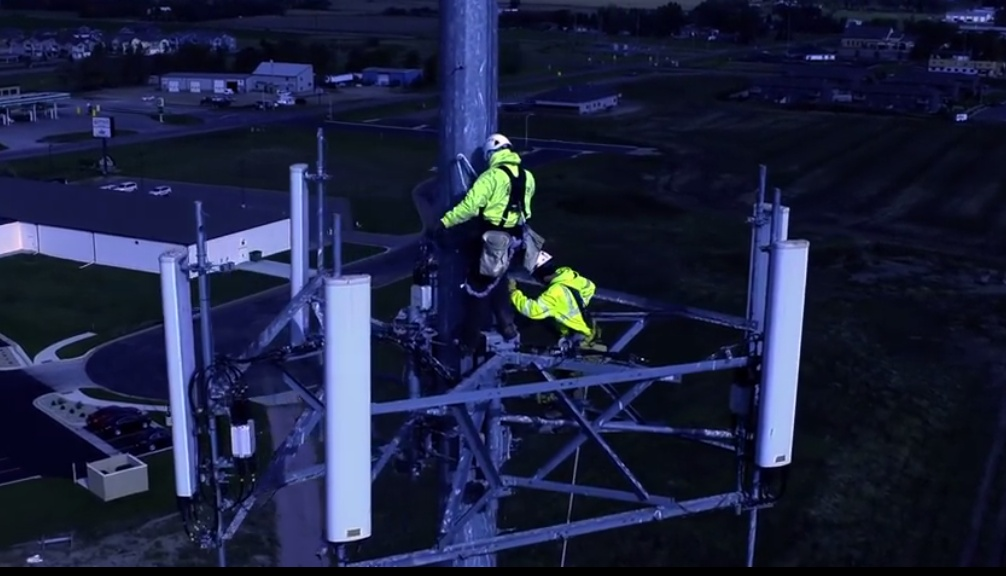white: (481, 133, 512, 162), (530, 250, 556, 280)
